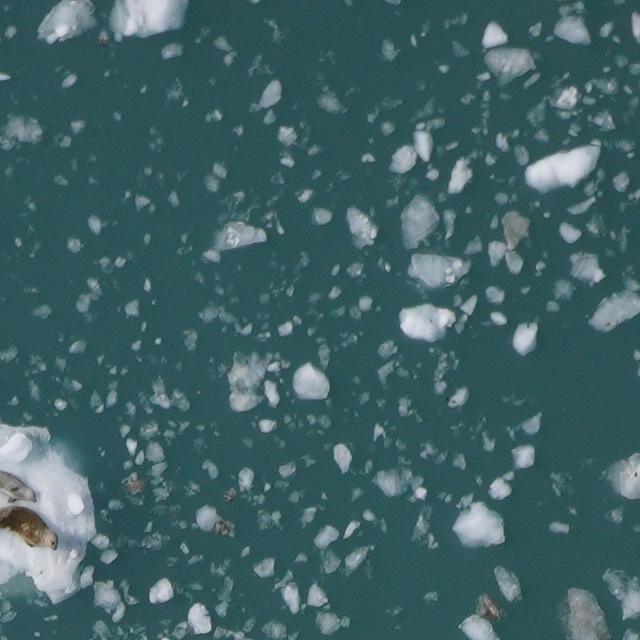seal: (0, 504, 55, 551), (0, 470, 35, 502)
